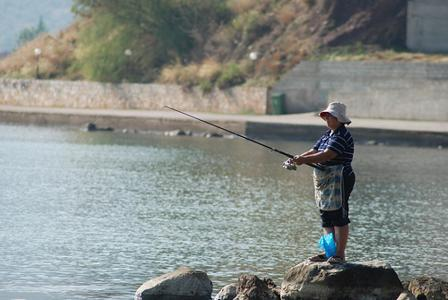person: (287, 103, 357, 263)
